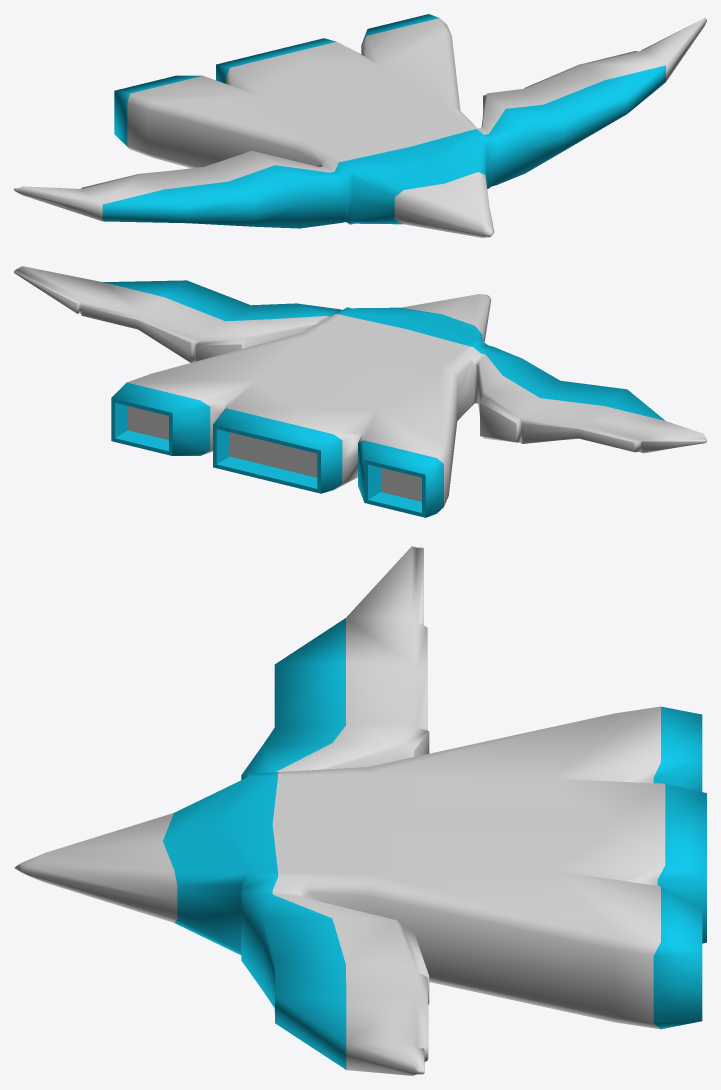
Rendered from wingstar.fbx.
3 renders of one model, top to bottom at view 1: azimuth 30°, elevation 25°; view 2: azimuth 150°, elevation 25°; view 3: azimuth 270°, elevation 25°, orthographic. The views are drawn at different scales.
Parts seen in each view (by area): view 1: Cube; view 2: Cube; view 3: Cube.
Boxes of the visible parts, box(x1,y1,x2,y2) form: Cube: box(14, 14, 706, 237); Cube: box(14, 266, 706, 517); Cube: box(14, 546, 706, 1075).
Bounding box in the file's own units: 346 × 32.96 × 193.
